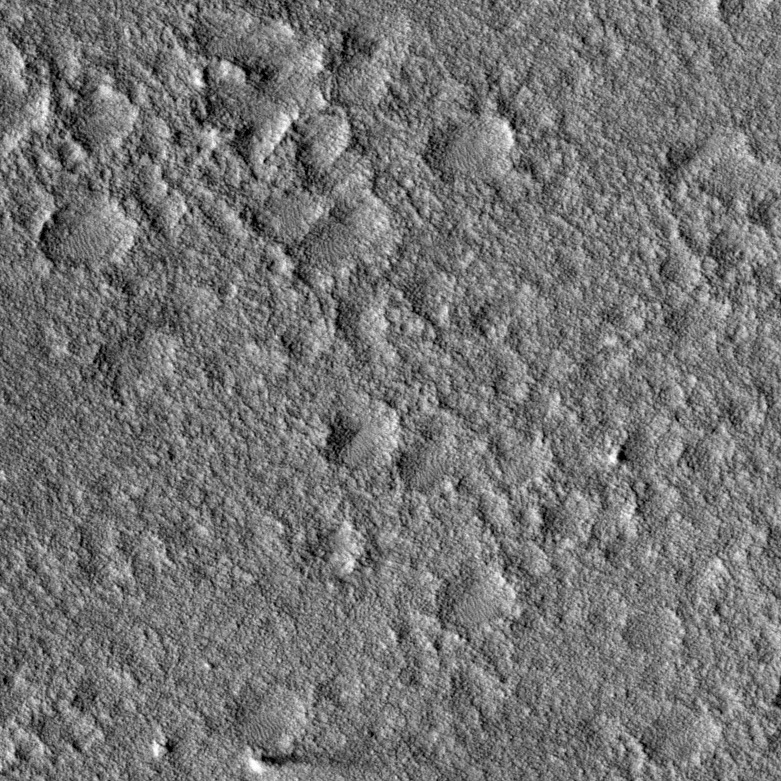dust_devil: (246, 750, 341, 776)
